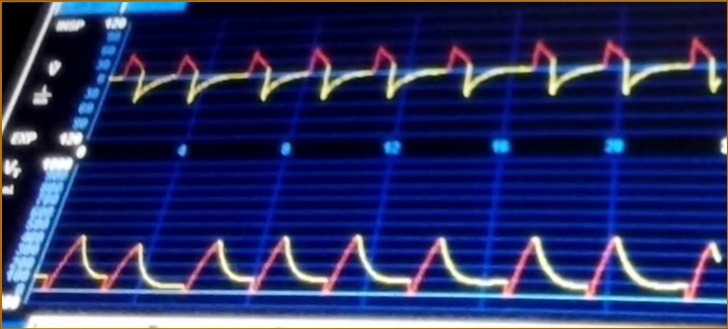Flow: (122, 27, 726, 135)
Leakage Volume: (36, 223, 719, 313)
